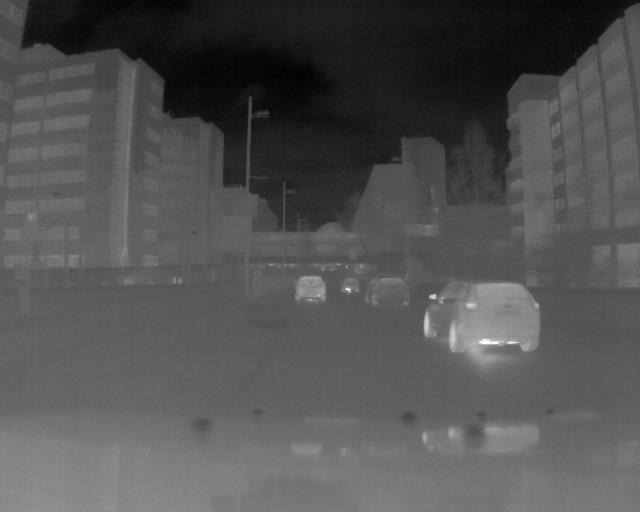car: (418, 278, 546, 354), (362, 273, 413, 310), (292, 269, 330, 312), (340, 274, 361, 295)
